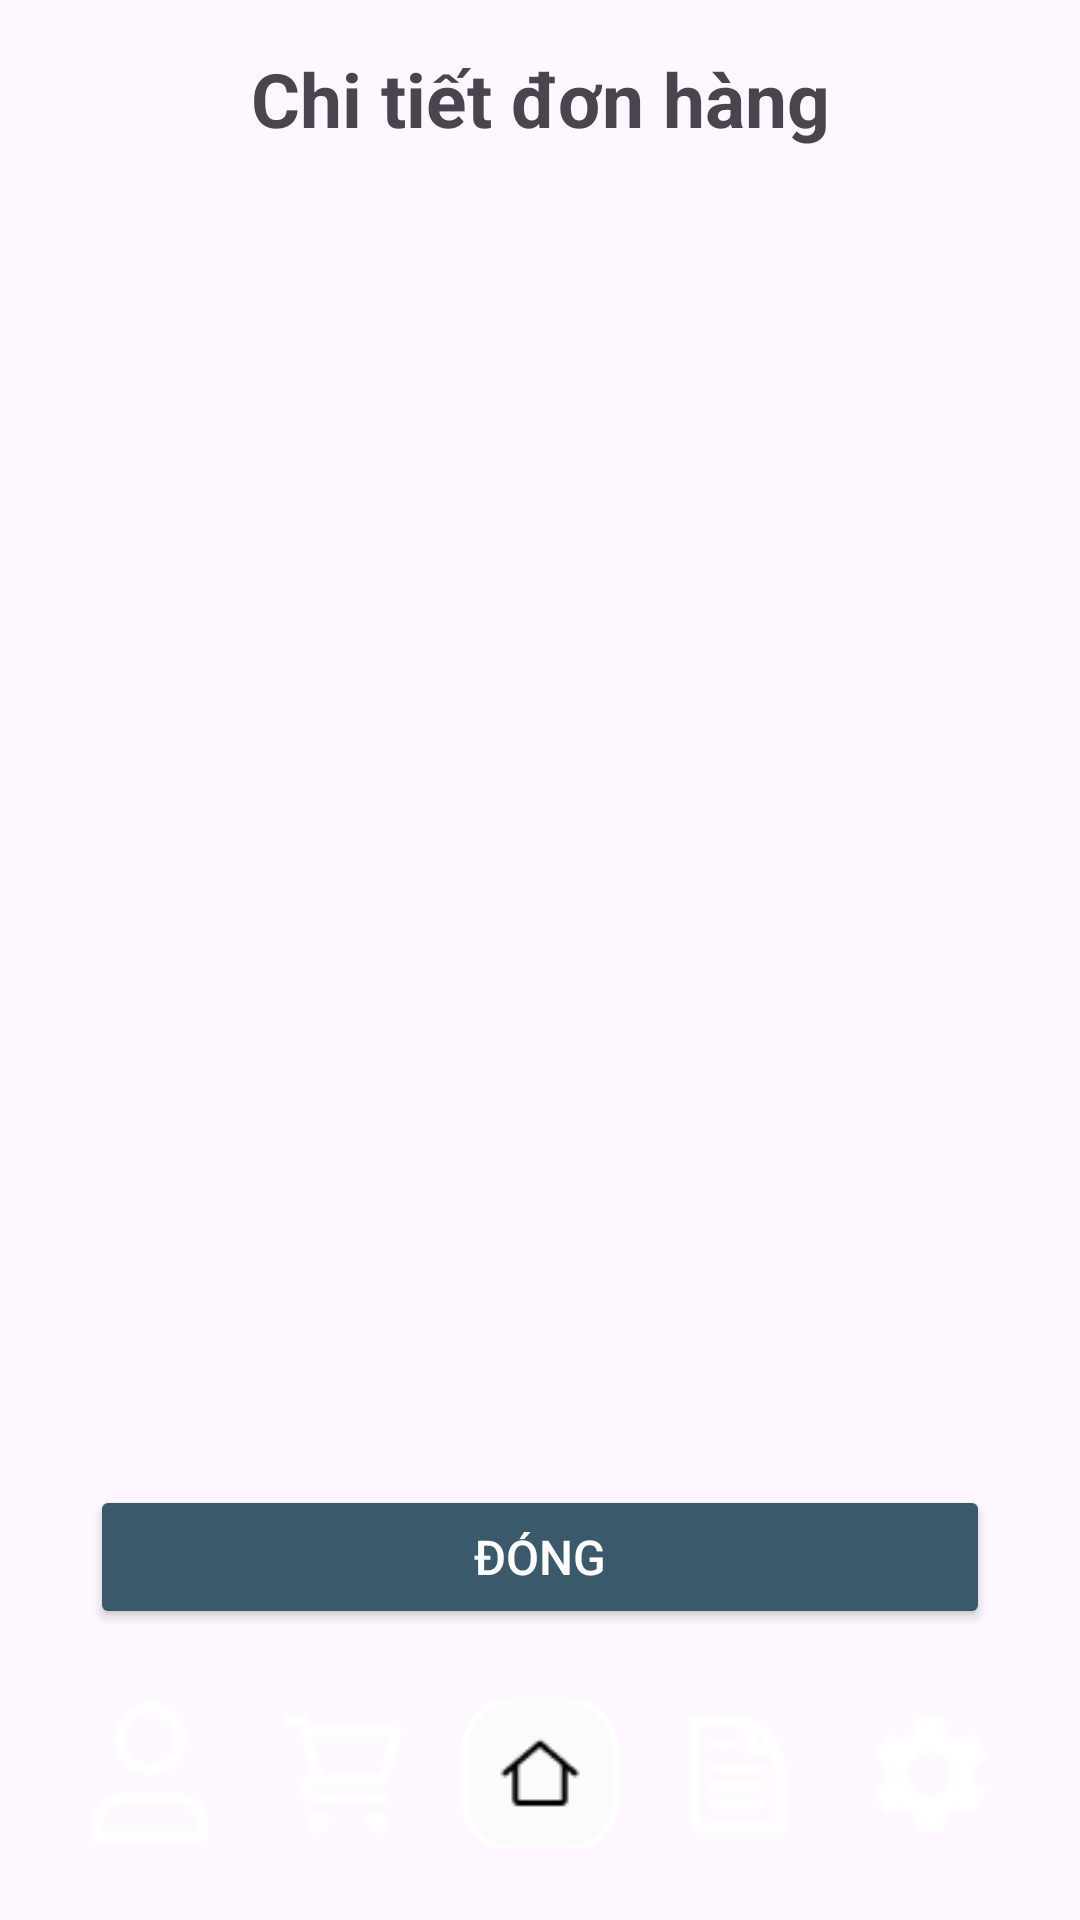

Where to tap for icons on this 1080px×1920px app screen, as (x=x, y=y):
trang chu: (x=540, y=1773)
